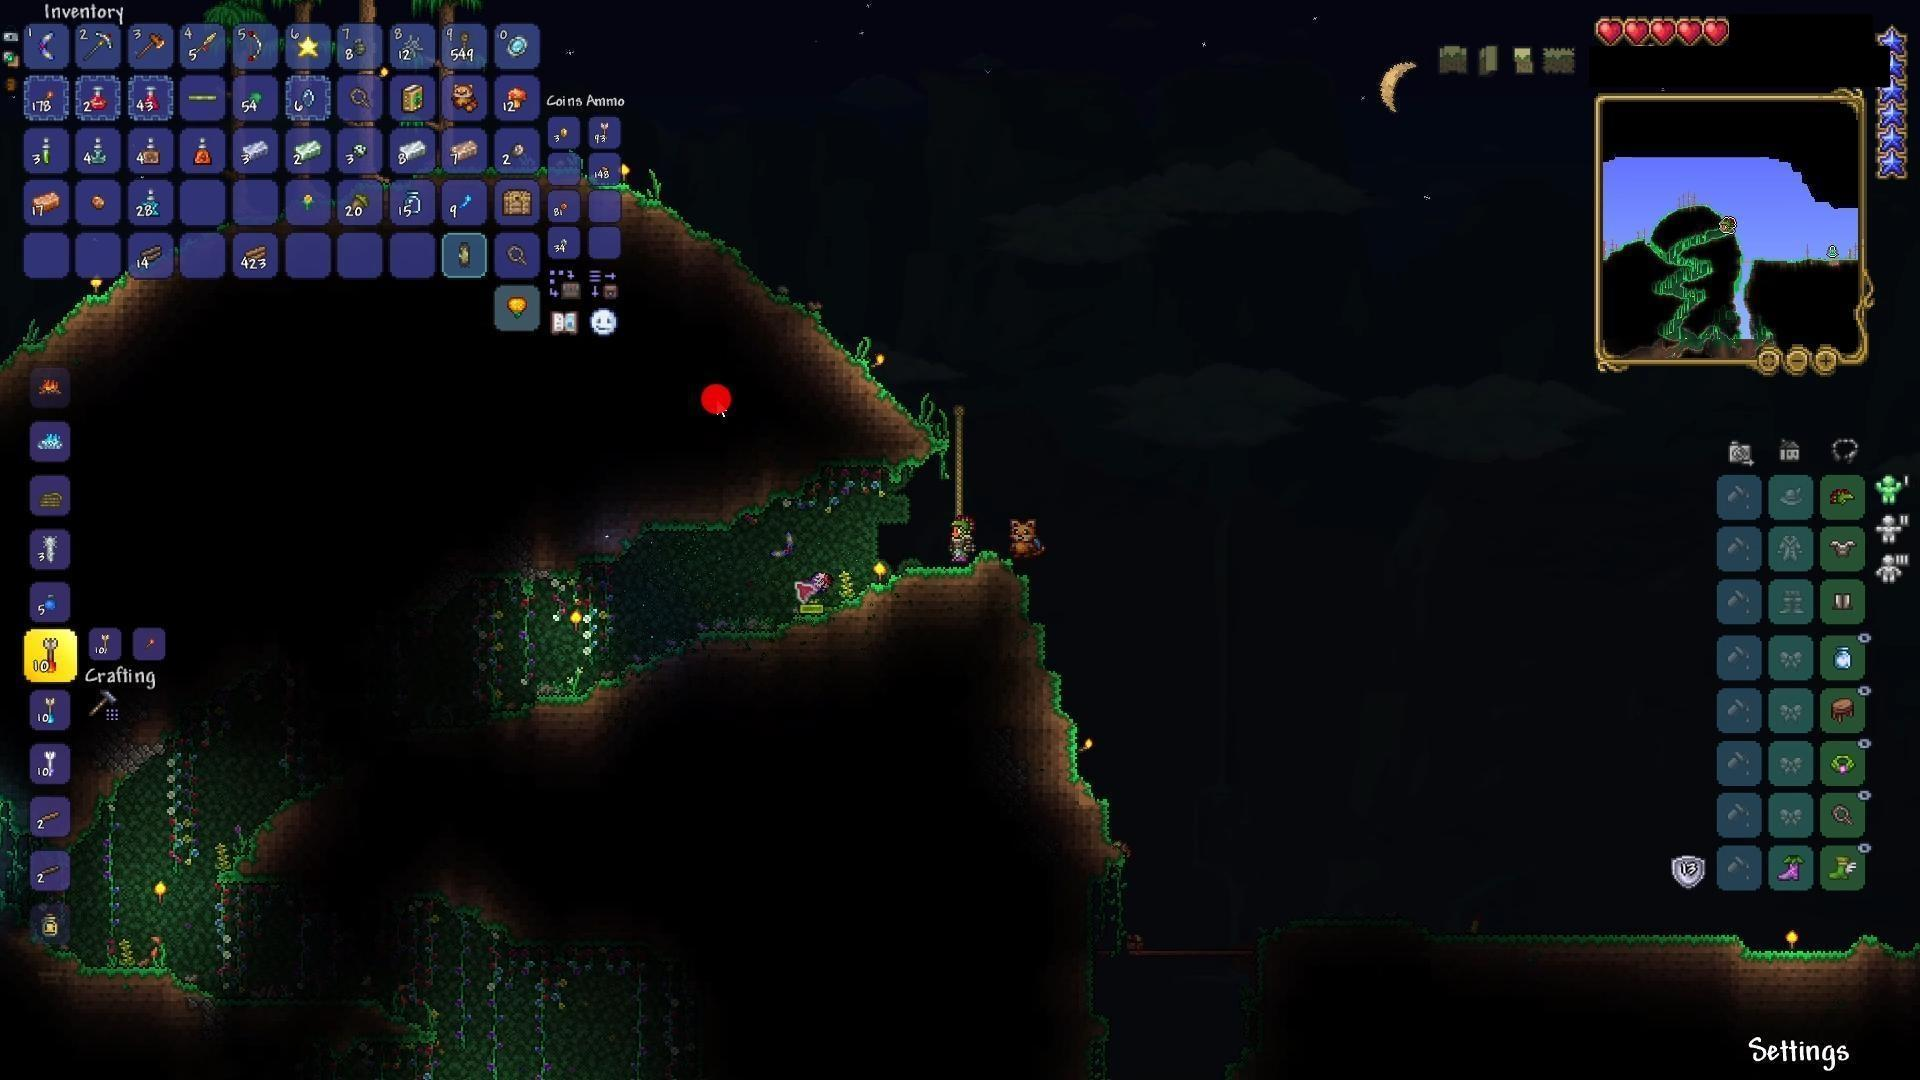dirt: (1009, 571, 1126, 881), (637, 178, 840, 352), (1476, 920, 1888, 973), (198, 773, 324, 890), (835, 334, 942, 459), (666, 612, 847, 682), (75, 948, 255, 1015), (852, 562, 1018, 612), (764, 459, 939, 501), (0, 284, 87, 368), (524, 665, 641, 723), (505, 541, 645, 582), (629, 506, 778, 545), (364, 1001, 447, 1047)
heart: (1702, 17, 1733, 51), (1593, 16, 1626, 46), (1676, 15, 1704, 50), (1650, 16, 1676, 49), (1625, 15, 1651, 44)
